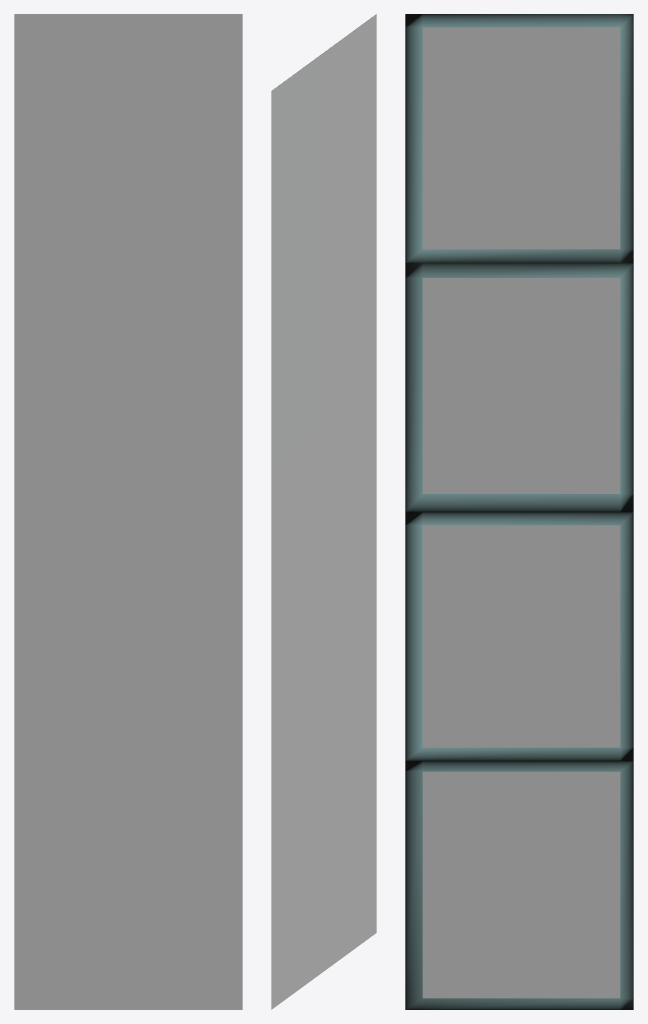
File: Inventory.fbx
3 renders of one model, left to right at view 1: azimuth 90°, elevation 25°; view 2: azimuth 150°, elevation 25°; view 3: azimuth 270°, elevation 25°, orthographic. The views are drawn at different scales.
Visible parts, largest first — view 1: Bar; view 2: Bar; view 3: Bar.
Boxes of the visible parts, x1,y1,x2,y2 form: Bar: [14, 14, 242, 1009]; Bar: [271, 14, 376, 1009]; Bar: [405, 14, 633, 1009].
Bounding box in the file's own units: 0.1001 × 671 × 139.
